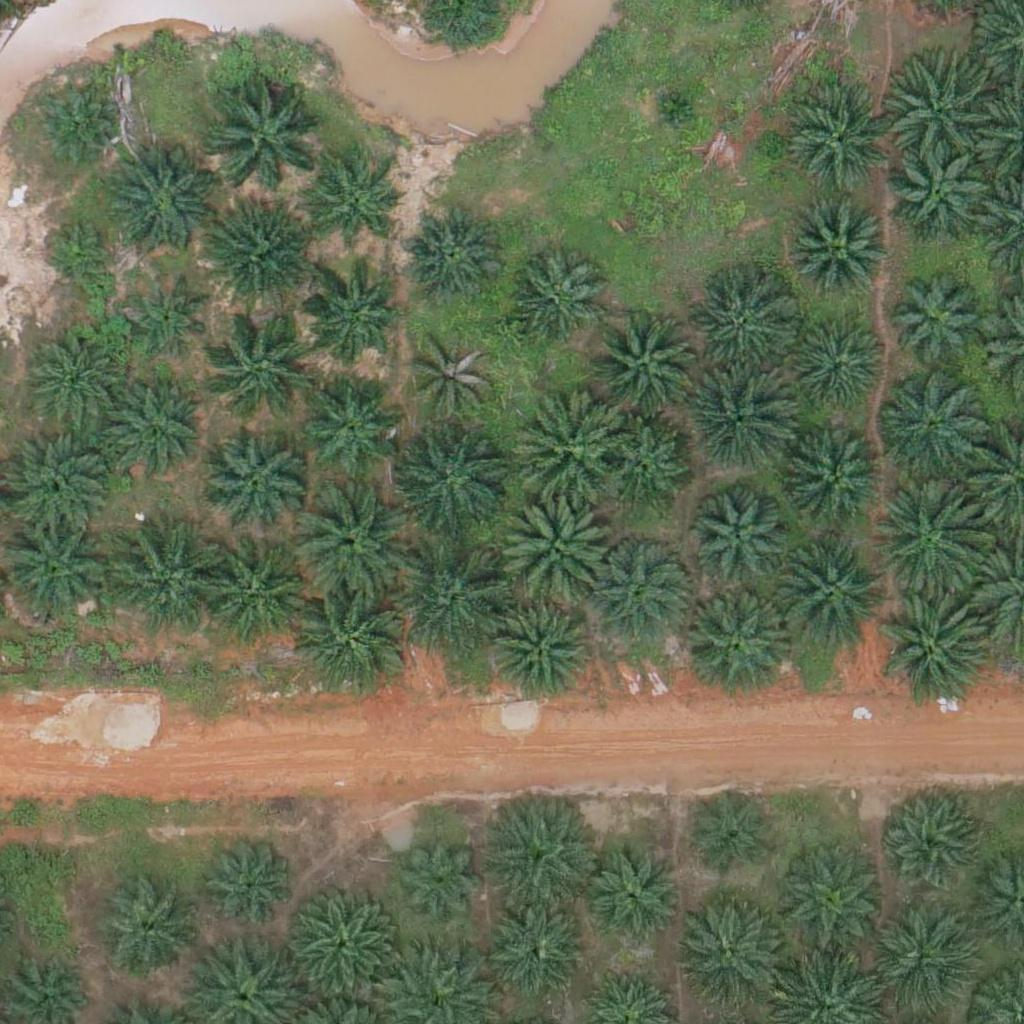Kelapa_Sawit: (868, 484, 981, 598), (684, 585, 797, 699), (771, 537, 884, 651), (281, 891, 394, 1004), (666, 898, 779, 1011), (683, 364, 796, 477), (295, 585, 408, 698), (208, 75, 321, 188), (102, 148, 215, 261), (771, 843, 883, 957), (483, 792, 595, 906), (875, 368, 987, 482), (207, 306, 319, 420), (105, 523, 217, 637), (880, 595, 992, 708), (886, 45, 998, 158), (588, 308, 700, 421), (511, 391, 623, 504), (498, 489, 610, 602), (400, 544, 512, 657), (396, 423, 508, 536), (294, 485, 406, 598), (195, 542, 307, 655), (198, 203, 310, 316), (199, 834, 299, 935), (485, 904, 585, 1005), (887, 273, 987, 374), (888, 143, 988, 244), (689, 494, 789, 595), (590, 538, 690, 639), (504, 249, 604, 350), (300, 269, 400, 370), (202, 431, 302, 532), (102, 382, 202, 483), (98, 884, 198, 984), (868, 910, 968, 1010), (879, 793, 979, 893), (584, 839, 684, 939), (789, 94, 889, 194), (790, 203, 890, 303), (790, 319, 890, 419), (786, 435, 886, 535), (692, 279, 792, 379), (489, 601, 589, 701), (401, 204, 501, 304), (300, 373, 400, 473), (25, 330, 125, 430), (688, 789, 776, 877), (600, 422, 688, 510), (125, 276, 213, 364), (30, 84, 118, 172), (400, 837, 487, 925), (410, 335, 497, 423), (312, 165, 399, 253), (42, 215, 117, 290), (647, 81, 697, 132)
